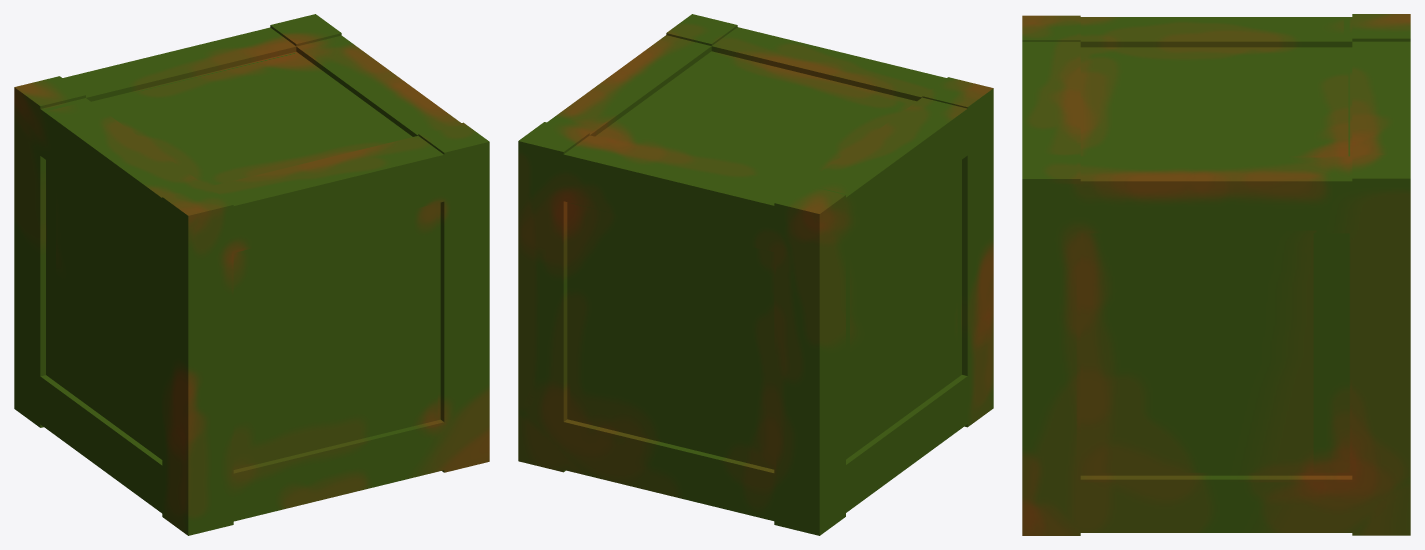
The model's file is ammoBox.fbx.
The picture shows the model from 3 angles, left to right: view 1: azimuth 30°, elevation 25°; view 2: azimuth 150°, elevation 25°; view 3: azimuth 270°, elevation 25°; orthographic projection. The views are drawn at different scales.
Visible parts, largest first — view 1: Cube; view 2: Cube; view 3: Cube.
Part boxes in pixels (bbox=[...]): Cube: bbox=[14, 14, 489, 535]; Cube: bbox=[518, 14, 993, 535]; Cube: bbox=[1022, 14, 1410, 535].
Size of the model in its own units: 200 by 204 by 200.
